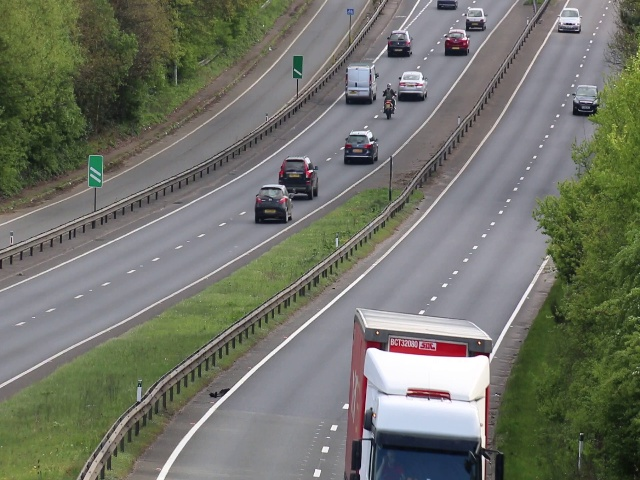car: (346, 308, 493, 480), (280, 155, 320, 197), (255, 184, 294, 226), (344, 62, 378, 104), (344, 130, 379, 163), (396, 70, 428, 100), (571, 82, 600, 115), (556, 4, 583, 34), (444, 27, 469, 57), (386, 29, 413, 55), (464, 7, 486, 31)
